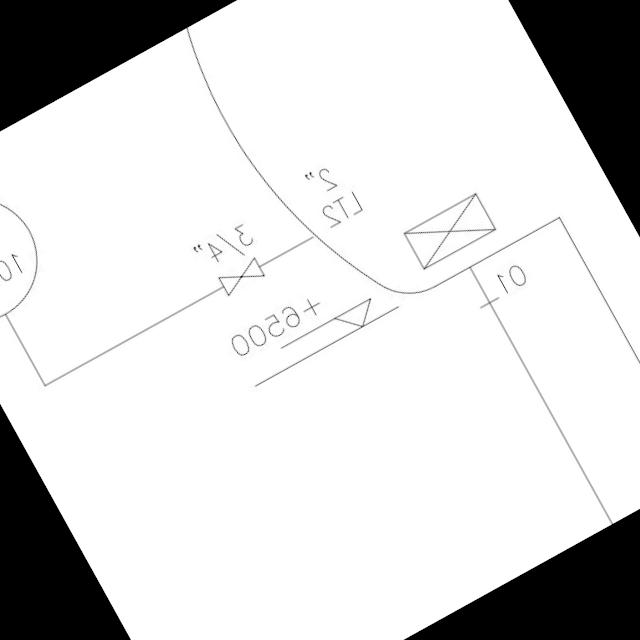GV: (213, 252, 272, 301)
